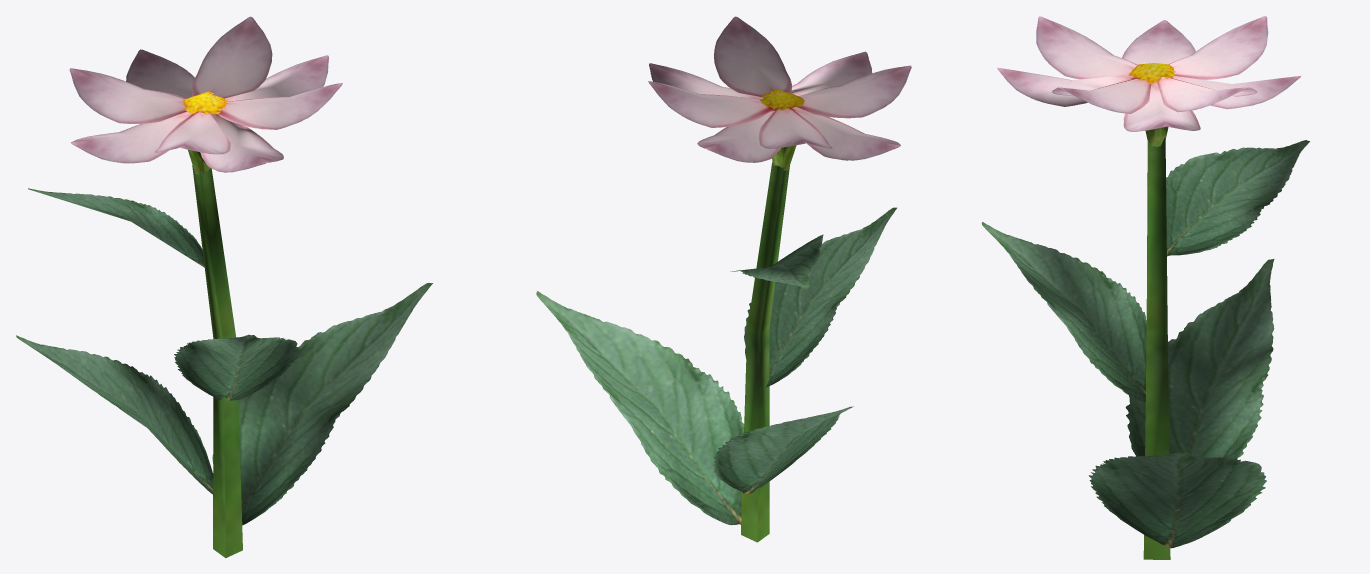
Rendered from whitef1.obj.
3 renders of one model, left to right at view 1: azimuth 30°, elevation 25°; view 2: azimuth 150°, elevation 25°; view 3: azimuth 270°, elevation 25°, orthographic. The views are drawn at different scales.
Parts seen in each view (by area): view 1: whiteflw01; view 2: whiteflw01; view 3: whiteflw01.
Boxes of the visible parts, <box> form: whiteflw01: <box>16,16,432,558</box>; whiteflw01: <box>536,16,911,542</box>; whiteflw01: <box>981,16,1309,559</box>.
Size of the model in its own units: 25.14 by 29.17 by 20.69.
2 materials, 2 textured.
